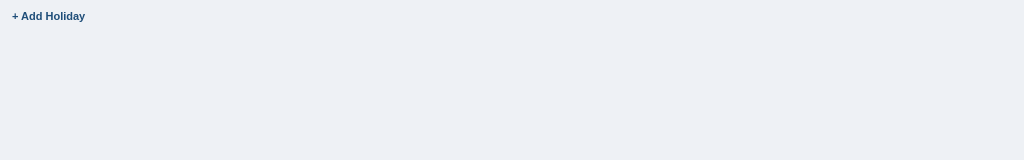
Test: HolidayColumn › reveals an end date once Range is checked, and saves the range
Later steps or results of the test are not shown.
Click the button "+ Add Holiday" at (49, 16), box [8,6,89,26]
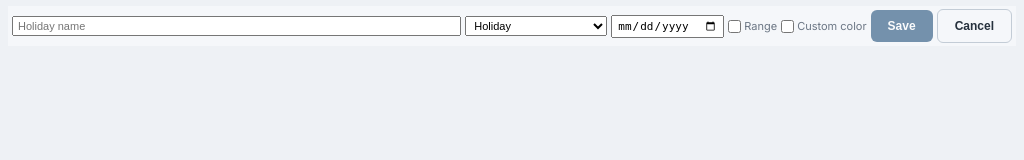
Type "Diwali" into the field with placeholder "Holiday name" at (237, 26), box [12,16,461,36]
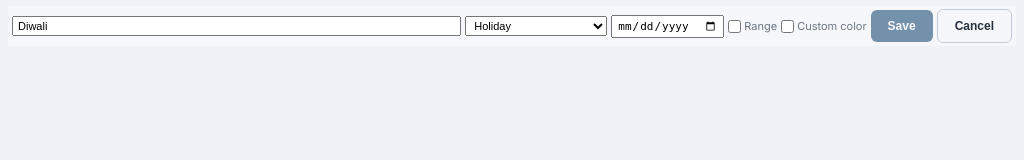
Type "2026-11-07" into the date field at (668, 26), box [611,14,724,38]
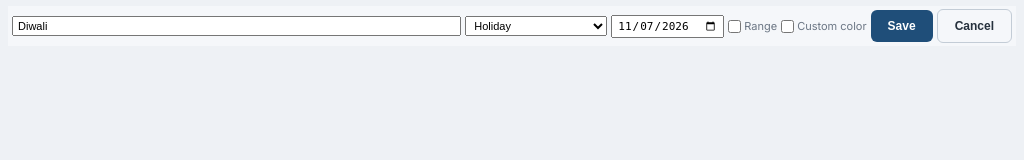
Click the checkbox labelled "Range" at (735, 26), box [728,20,741,32]
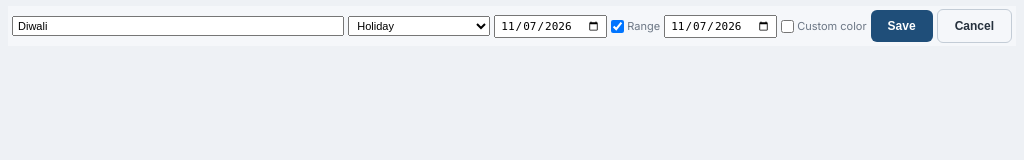
Now the number of date fields is 2, box [494,14,607,38]; [664,14,777,38]
